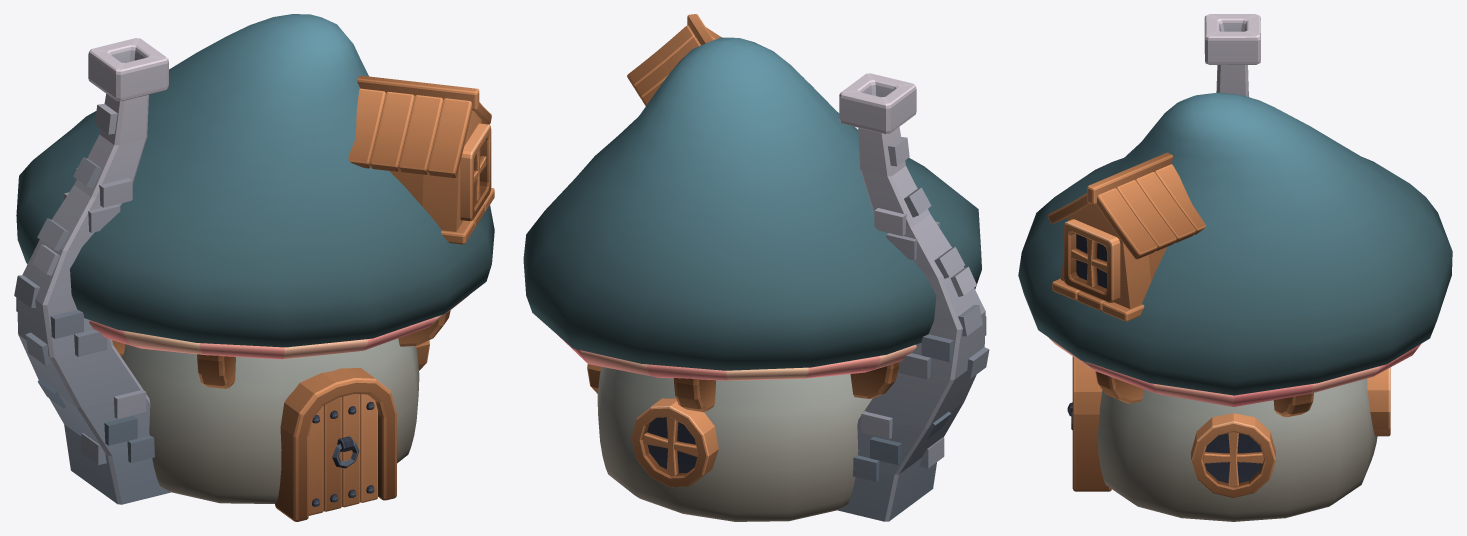
Rendered from mt_house05.fbx.
3 renders of one model, left to right at view 1: azimuth 30°, elevation 25°; view 2: azimuth 150°, elevation 25°; view 3: azimuth 270°, elevation 25°, orthographic. The views are drawn at different scales.
Parts seen in each view (by area): view 1: h5; view 2: h5; view 3: h5.
Boxes of the visible parts, <box> form: h5: <box>14,14,494,521</box>; h5: <box>523,14,989,521</box>; h5: <box>1018,14,1452,521</box>.
Bounding box in the file's own units: 710 × 659 × 670.
